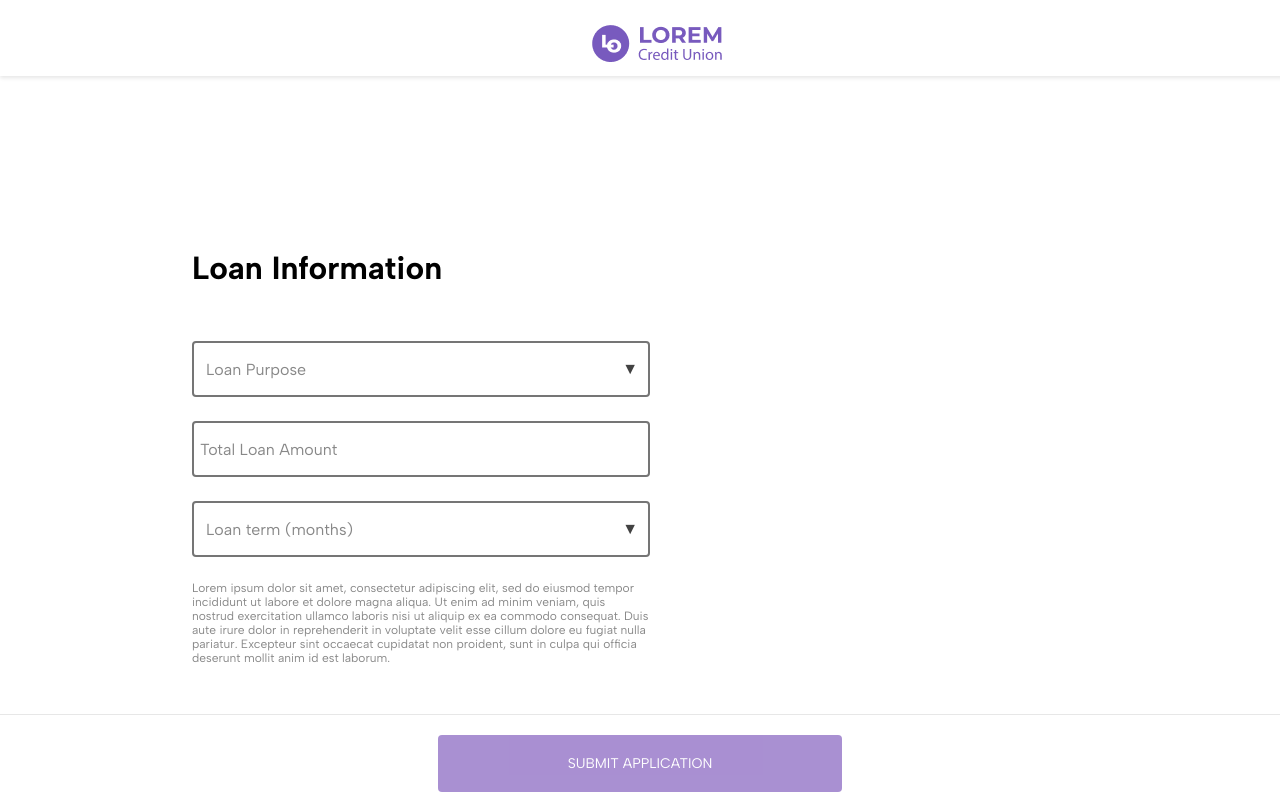
Test: HomePage › should Submit Button be disabled and should show an error
This screenshot has width=1280, height=812.
Click the text "Loan Purpose" at (256, 369), box 202,359 -> 310,378
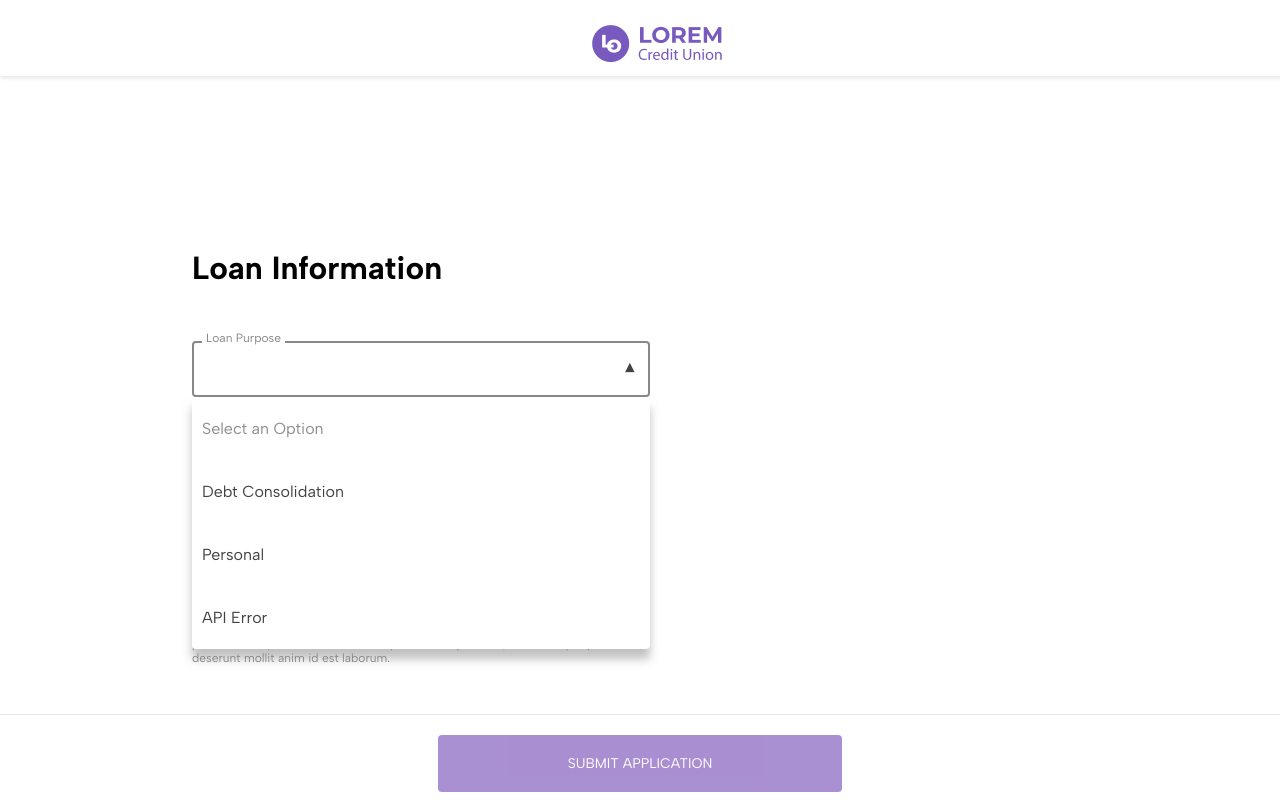
Click the list item "API Error" at (235, 618), box 202,608 -> 267,627
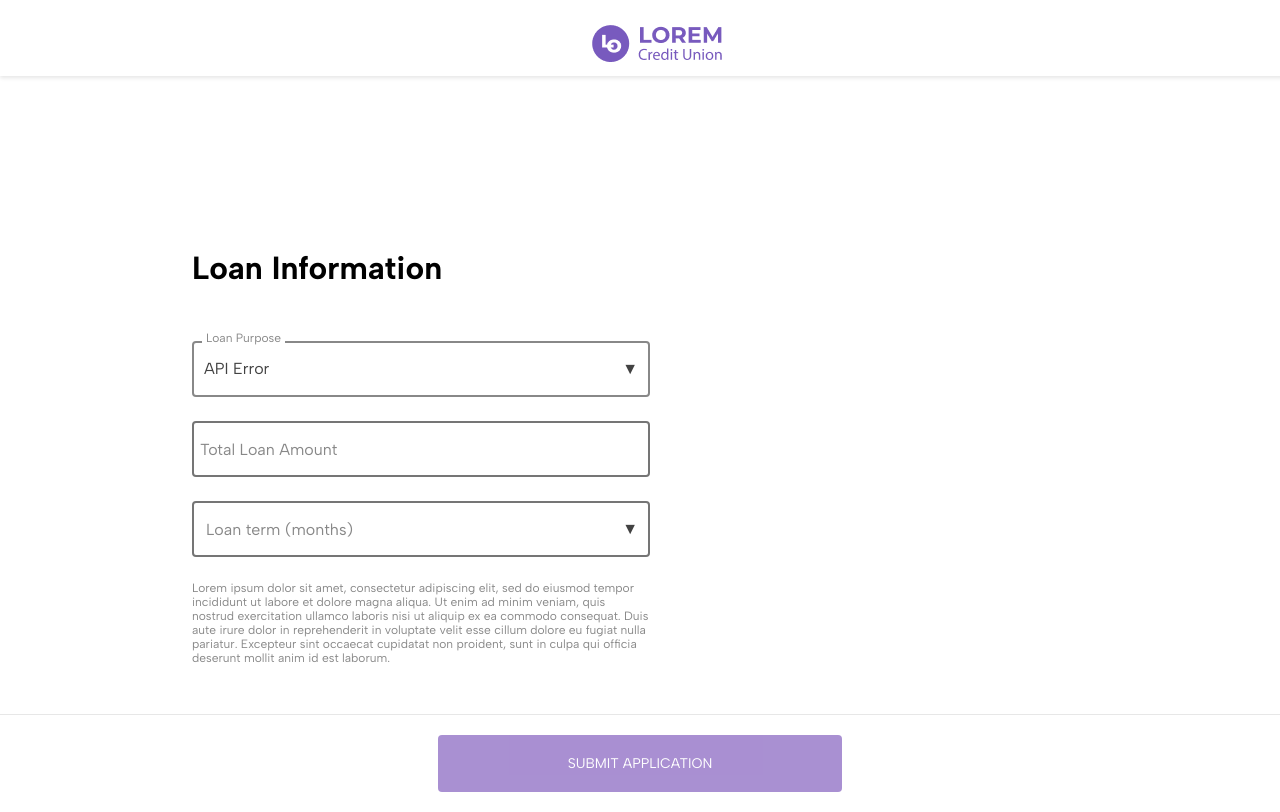
Click the text "Loan term (months)" at (280, 529), box 202,519 -> 357,538
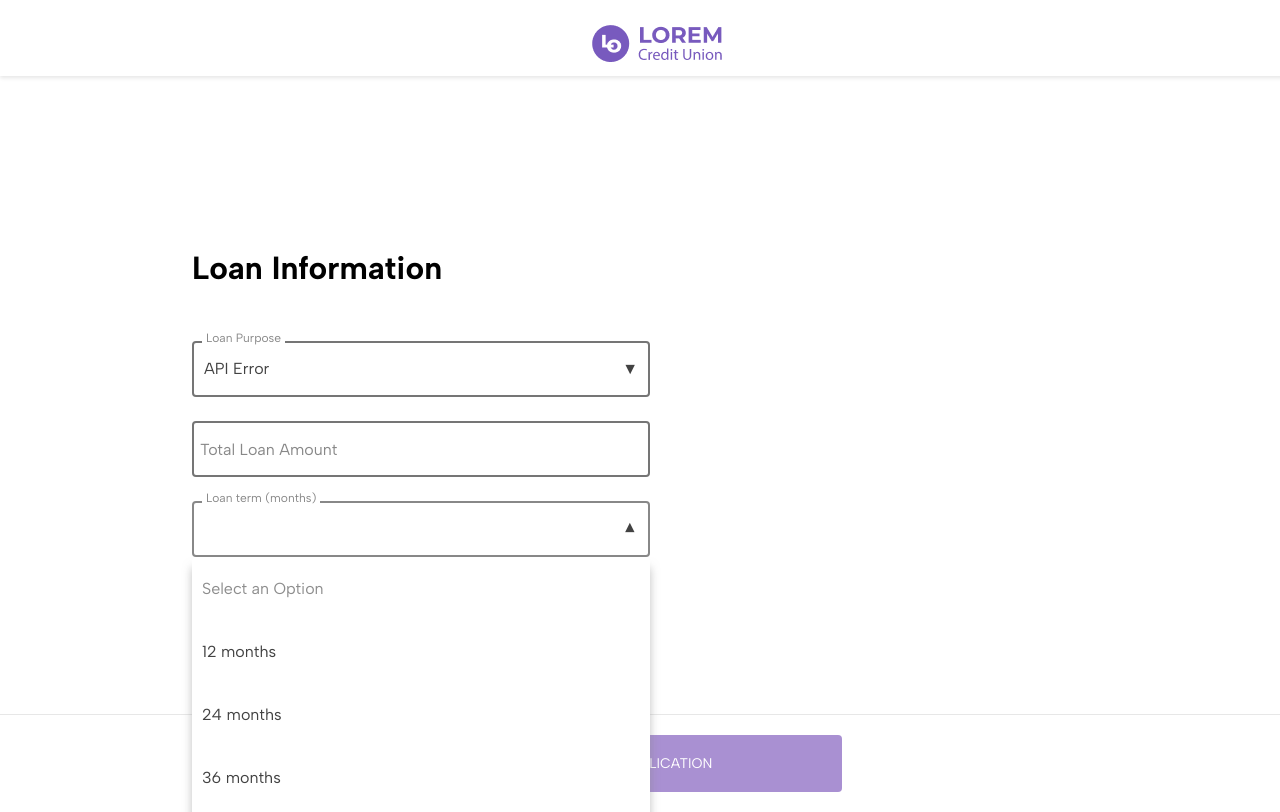
Click the list item "12" at (239, 652), box 202,642 -> 276,661
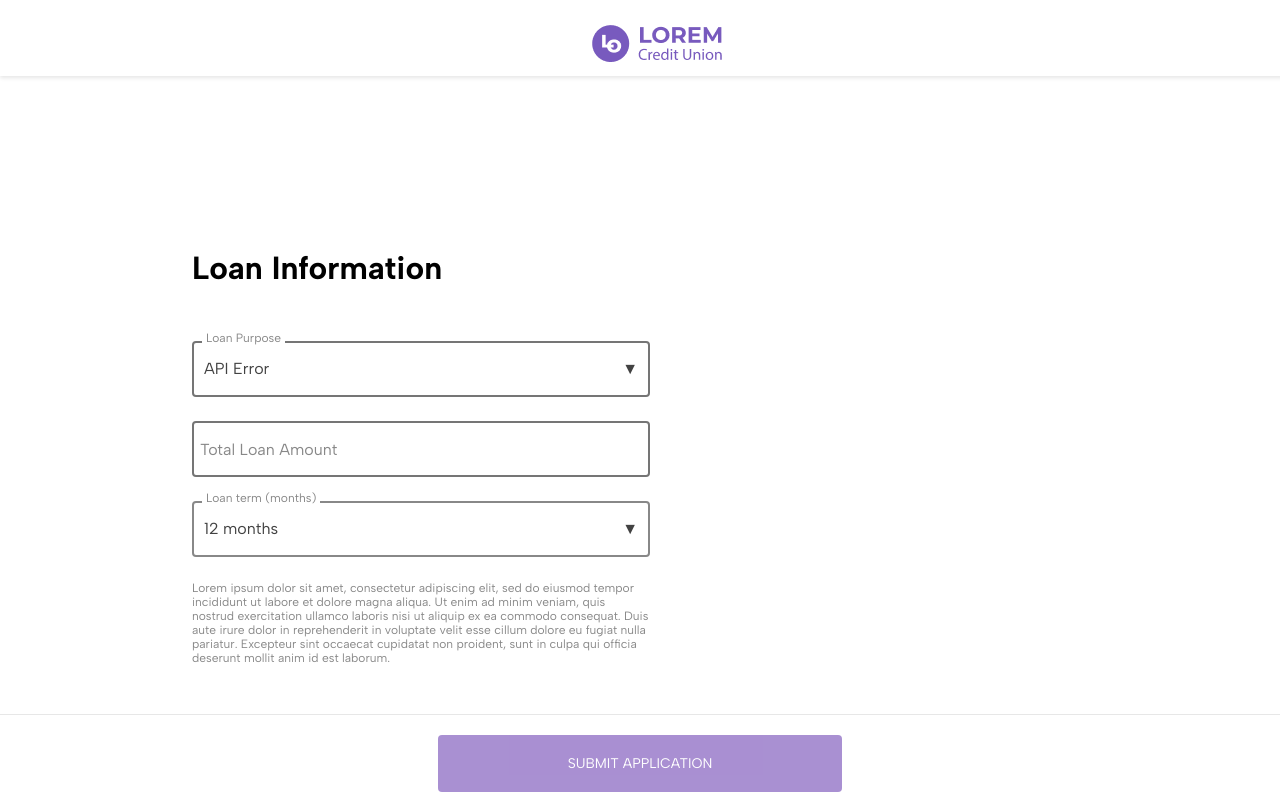
Type "1500" into the field with test id "input-component" at (421, 449), box 192,421 -> 650,477
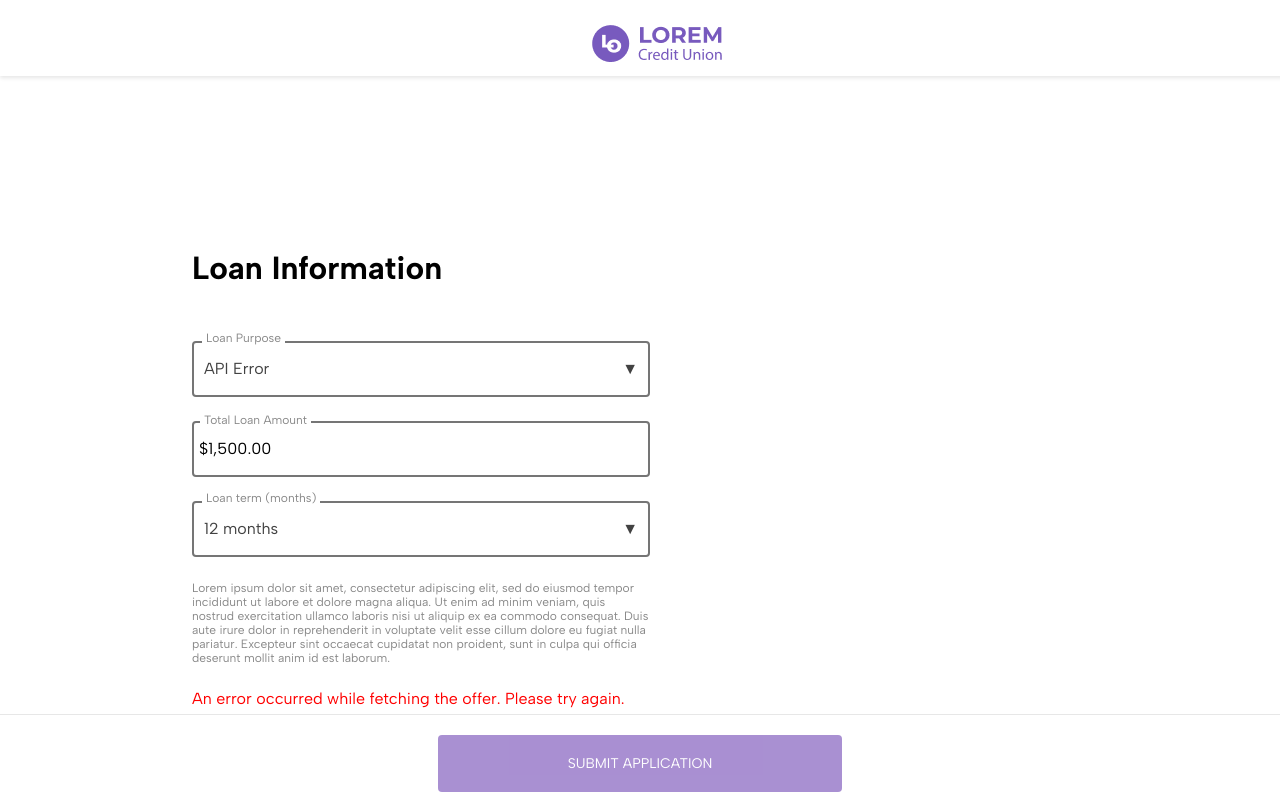
Expected: the button "Submit Application" is disabled, 438,735 -> 842,792
Now the text "An error occurred while fetching the offer. Please try again" is shown, box 192,689 -> 625,708
